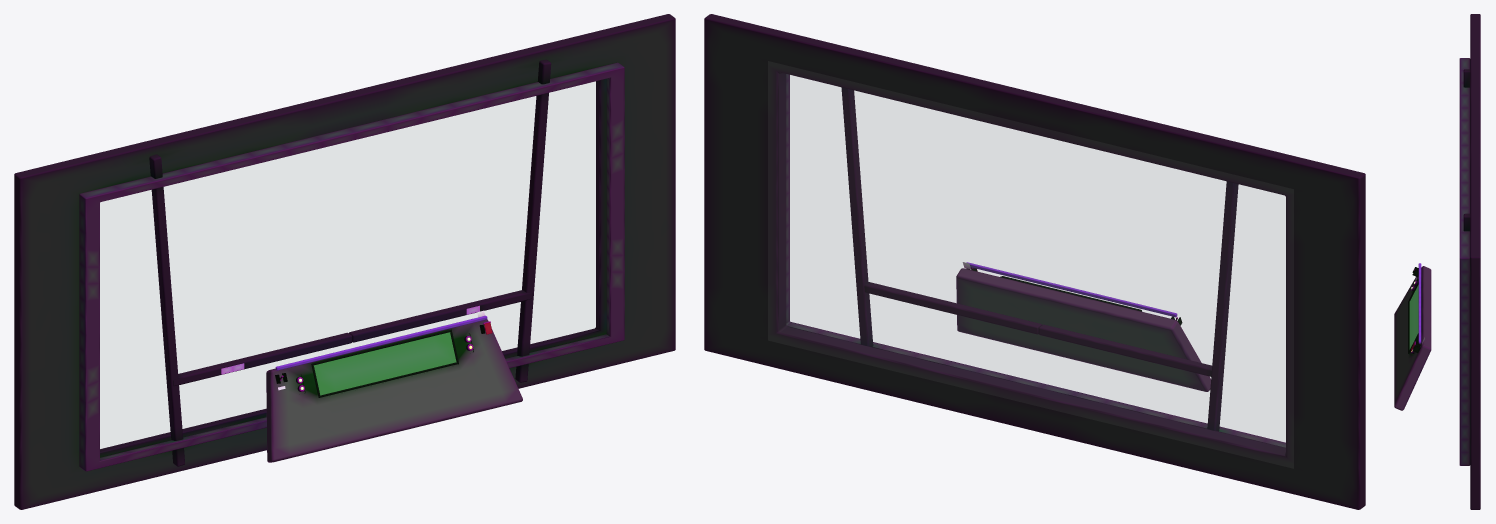
File: gunship.glb
3 renders of one model, left to right at view 1: azimuth 30°, elevation 25°; view 2: azimuth 150°, elevation 25°; view 3: azimuth 270°, elevation 25°, orthographic. The views are drawn at different scales.
Parts seen in each view (by area): view 1: glass.bubble, static.paint_dark, static.paint, static.screen.pcd, static.trim; view 2: glass.bubble, static.paint_dark, static.paint, static.trim; view 3: static.paint, static.paint_dark, static.screen.pcd, static.trim.
Boxes of the visible parts, bbox=[...] form: glass.bubble: bbox=[100, 82, 595, 448]; static.paint_dark: bbox=[14, 14, 675, 509]; static.paint: bbox=[79, 62, 624, 471]; static.screen.pcd: bbox=[313, 332, 456, 395]; static.trim: bbox=[275, 315, 487, 370]; glass.bubble: bbox=[768, 61, 1293, 467]; static.paint_dark: bbox=[704, 14, 1365, 509]; static.paint: bbox=[786, 74, 1285, 447]; static.trim: bbox=[966, 262, 1177, 317]; static.paint: bbox=[1394, 58, 1470, 465]; static.paint_dark: bbox=[1408, 14, 1480, 509]; static.screen.pcd: bbox=[1409, 285, 1418, 349]; static.trim: bbox=[1418, 263, 1421, 343].
Bounding box in the file's own units: 2.18 × 1.06 × 0.3297.
